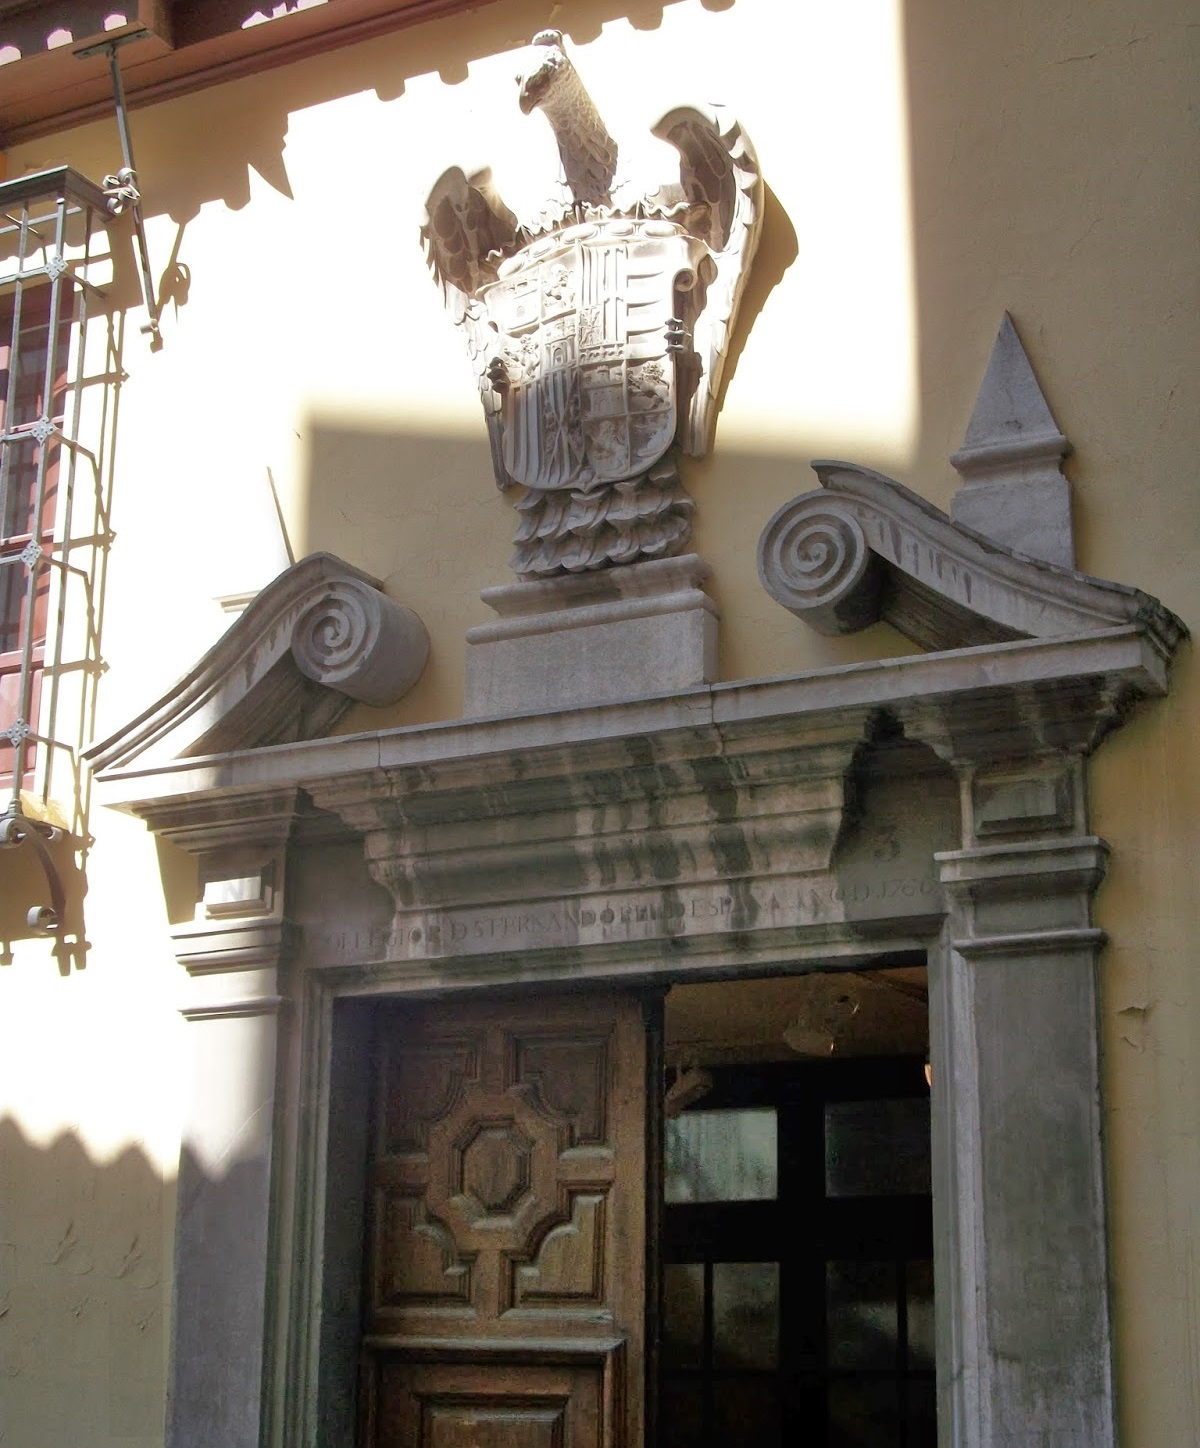fronton-partido: (73, 453, 1200, 825)
